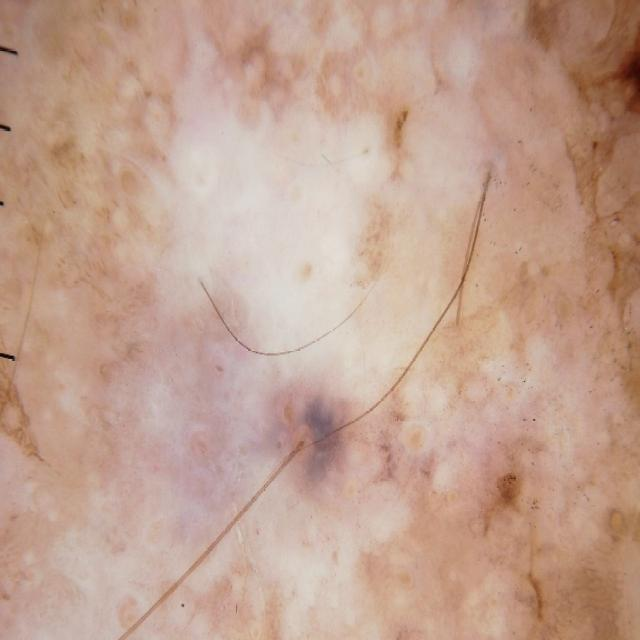Melanoma: (250, 332, 409, 552)
